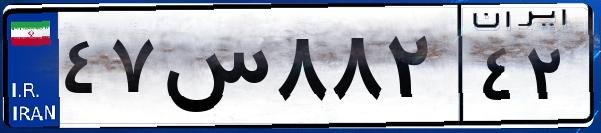2: (385, 28, 445, 110), (525, 38, 570, 115)
4: (57, 26, 110, 100), (475, 38, 525, 113)
7: (110, 28, 158, 98)
8: (270, 28, 330, 110), (330, 28, 385, 110)
س: (158, 20, 270, 120)
